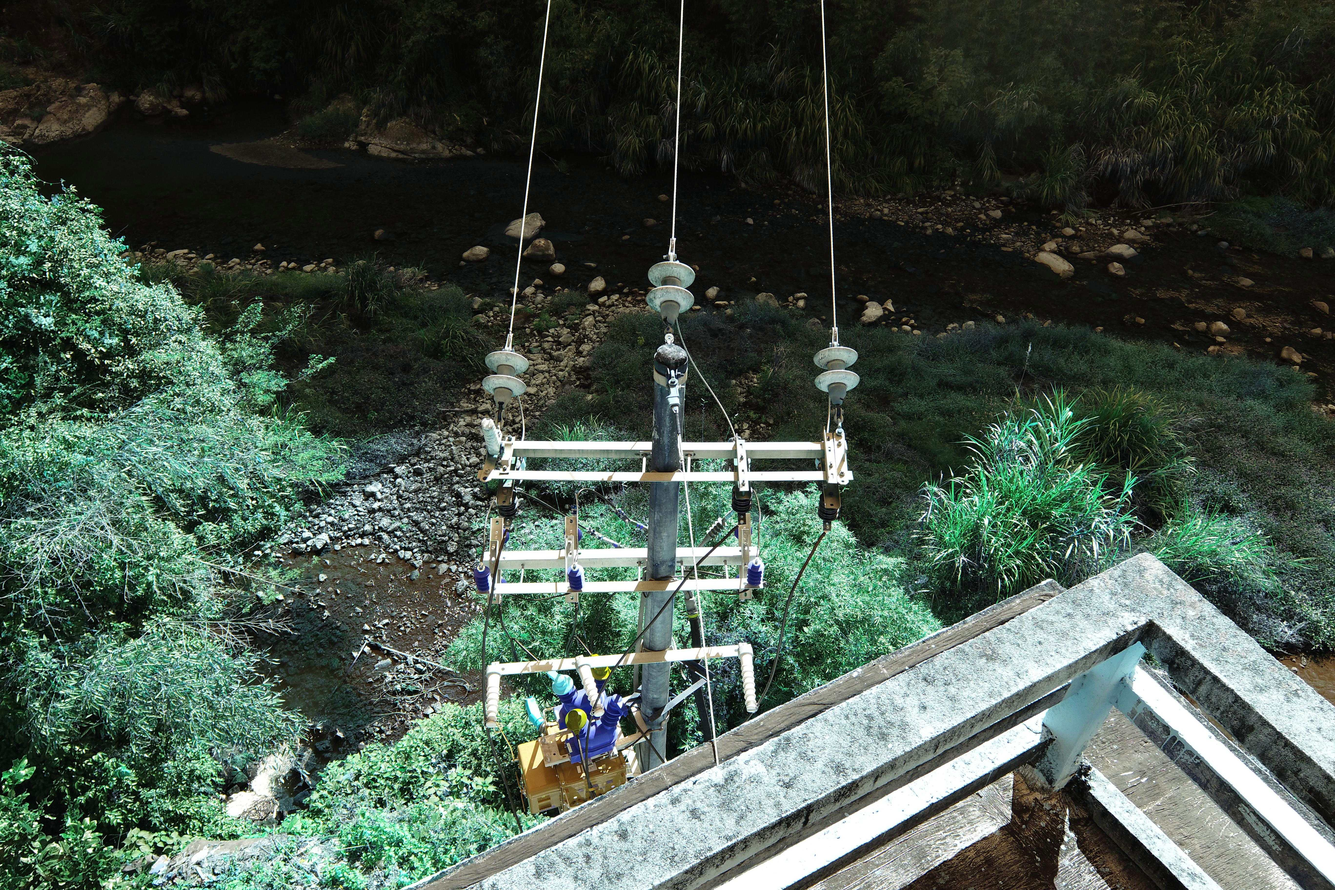severe_soiling_no_discharge_whole: (646, 260, 696, 326), (813, 344, 863, 405), (480, 349, 531, 408), (479, 416, 503, 456)
